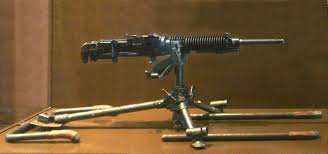gun: (55, 33, 292, 137)
